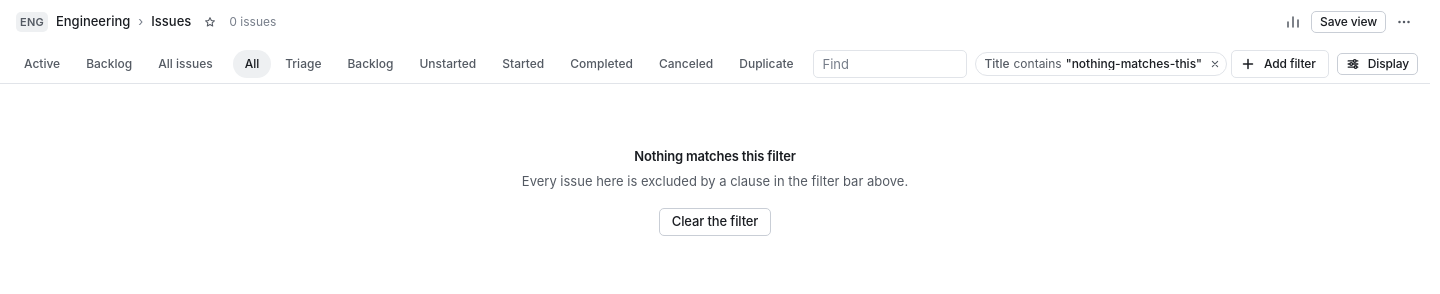
IssueList › clears the filter from the empty state
Click the button "Clear the filter" at (715, 222), box left=659, top=208, right=771, bottom=236
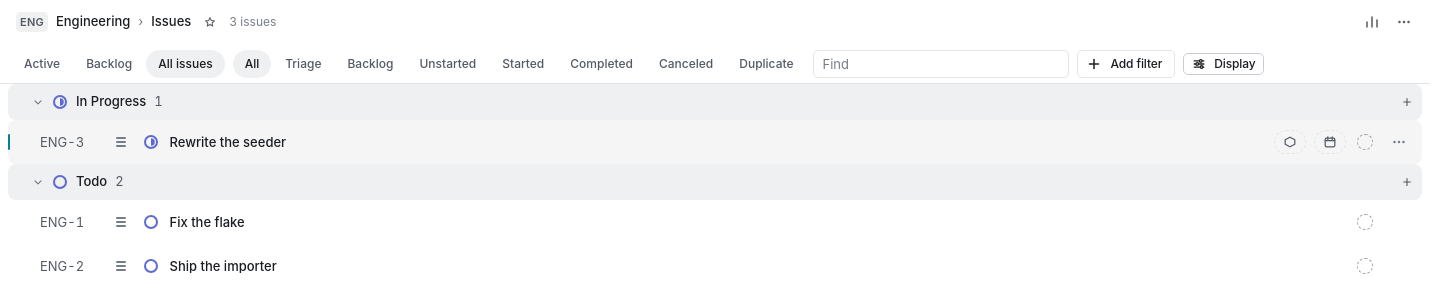
Expected: the cells read "ENG-3Rewrite the seeder", "ENG-1Fix the flake", "ENG-2Ship the importer", in this order, left=8, top=120, right=1422, bottom=164; left=40, top=211, right=1376, bottom=233; left=40, top=255, right=1376, bottom=277
